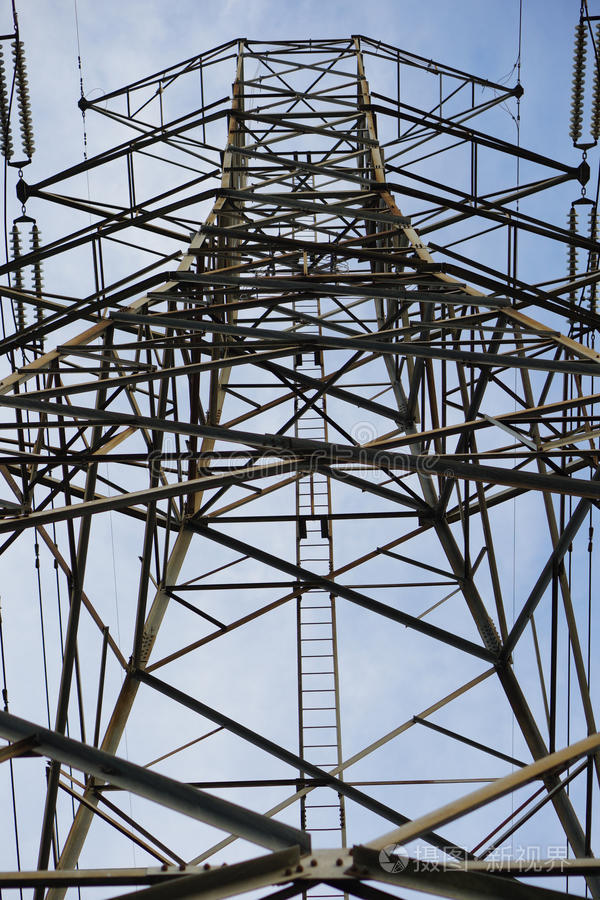insulator: (1, 43, 38, 159), (567, 19, 600, 144), (10, 225, 47, 328), (565, 206, 599, 313)
